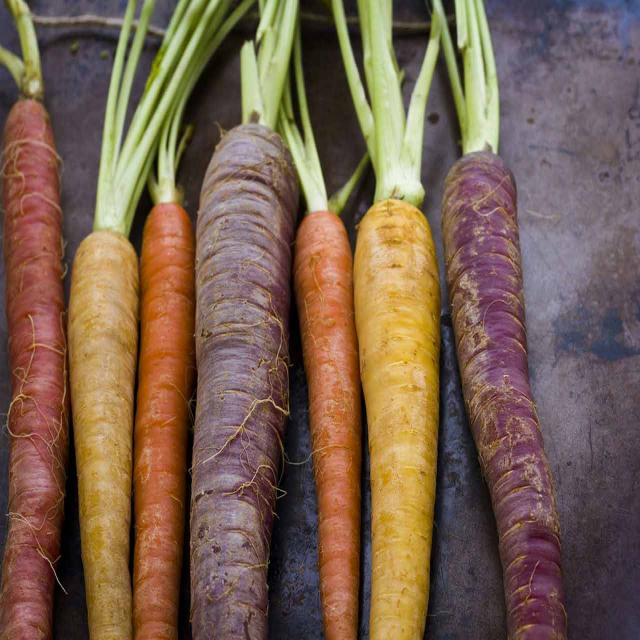Carrot: (449, 143, 574, 640), (194, 121, 282, 640), (0, 105, 73, 640), (360, 196, 447, 640), (65, 221, 146, 640), (296, 205, 365, 640), (132, 201, 192, 640)
